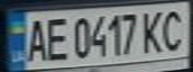0: (69, 13, 93, 60)
1: (106, 11, 124, 56)
4: (90, 11, 109, 57)
7: (118, 10, 142, 55)
A: (21, 15, 48, 63)
C: (157, 6, 190, 53)
E: (42, 14, 72, 62)
K: (139, 7, 169, 54)
